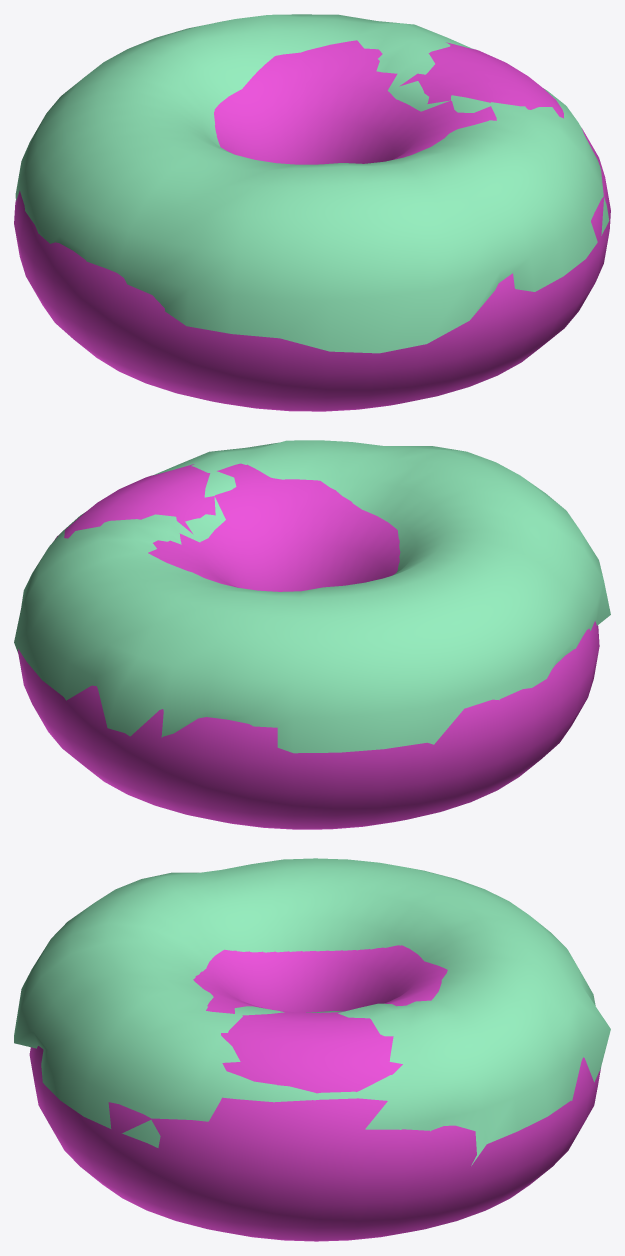
Rendered from donut2blend.glb.
3 renders of one model, top to bottom at view 1: azimuth 30°, elevation 25°; view 2: azimuth 150°, elevation 25°; view 3: azimuth 270°, elevation 25°, orthographic. The views are drawn at different scales.
Visible parts, largest first — view 1: Torus.002, Torus.001; view 2: Torus.002, Torus.001; view 3: Torus.002, Torus.001.
Part boxes in pixels (x1=…): Torus.002: x1=15, y1=14, x2=609, y2=353; Torus.001: x1=14, y1=40, x2=610, y2=411; Torus.002: x1=14, y1=440, x2=610, y2=753; Torus.001: x1=18, y1=463, x2=599, y2=829; Torus.002: x1=14, y1=858, x2=610, y2=1165; Torus.001: x1=29, y1=945, x2=600, y2=1241.
Bounding box in the file's own units: 3.04 × 1.31 × 3.16.
